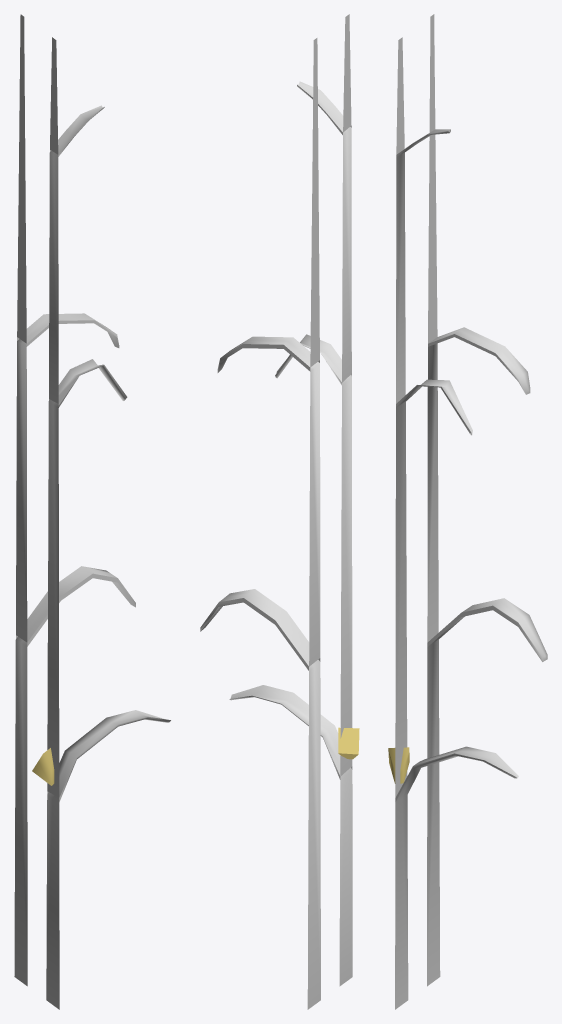
File: Adventure-Mais-Kolbenstück2.fbx
3 renders of one model, left to right at view 1: azimuth 30°, elevation 25°; view 2: azimuth 150°, elevation 25°; view 3: azimuth 330°, elevation 25°, orthographic.
Visible parts, largest first — view 1: Polygon_2, Polygon_3, Polygon; view 2: Polygon_2, Polygon_3, Polygon; view 3: Polygon_3, Polygon_2, Polygon.
Boxes of the visible parts, box(x1,y1,x2,y2) form: Polygon_2: box(46, 37, 170, 1009); Polygon_3: box(14, 14, 135, 986); Polygon: box(32, 748, 54, 785); Polygon_2: box(229, 14, 352, 986); Polygon_3: box(200, 38, 320, 1009); Polygon: box(338, 727, 359, 759); Polygon_3: box(427, 14, 547, 986); Polygon_2: box(395, 37, 518, 1009); Polygon: box(388, 747, 409, 783).
Bounding box in the file's own units: 11.59 × 80.38 × 6.8.
